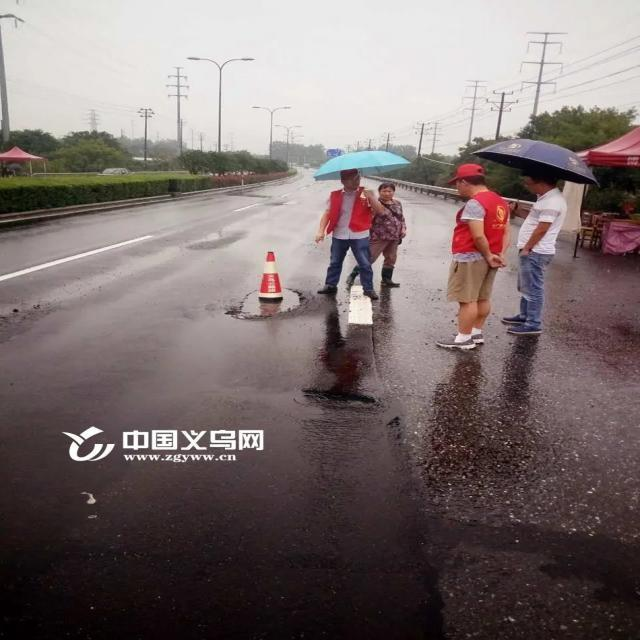Buraco: (222, 286, 310, 322), (298, 386, 385, 414)
